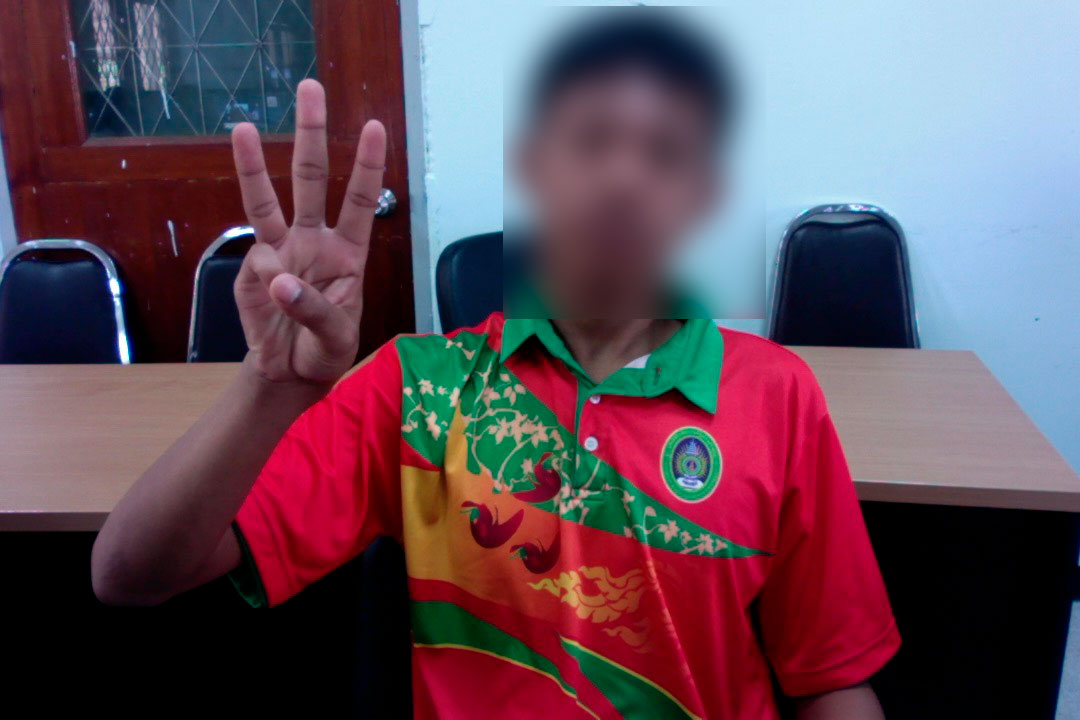wor: (214, 80, 393, 391)
